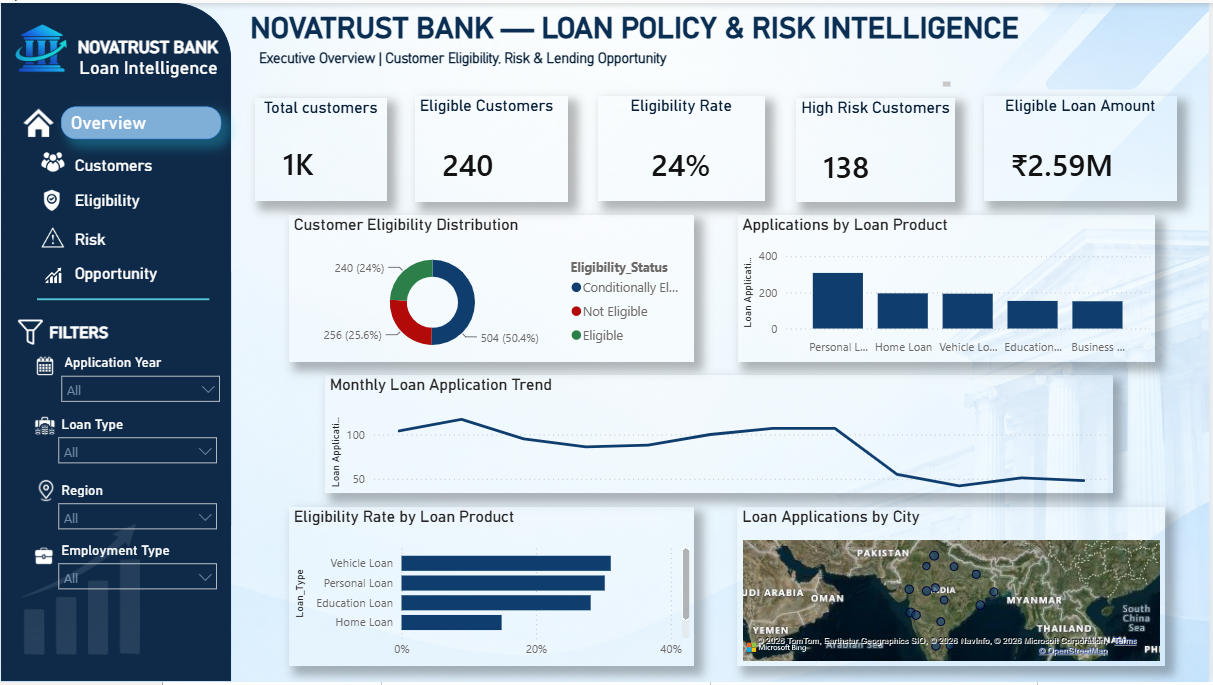

The dashboard page shown, as its layout file describes it:
{"tool":"powerbi","page":{"name":"Executive Overview","canvas":[1280,720],"ordinal":0},"visuals":[{"type":"textbox","title":" NOVATRUST BANK — LOAN POLICY & RISK INTELLIGENCE","box":[259.3,8,987.8,49.3],"z":0},{"type":"textbox","title":"Executive Overview | Customer Eligibility, Risk & Lending Opportunity","box":[268.8,49.3,742.8,44.5],"z":1000},{"type":"cardVisual","title":"Total customers","fields":{"Data":["Loan_Applications.Total Customers"]},"box":[268.8,100.2,140,109.8],"z":2000},{"type":"cardVisual","title":"Eligibility Rate","fields":{"Data":["Loan_Applications.Eligibility Rate"]},"box":[633.4,98.9,176.6,111.3],"z":3000},{"type":"cardVisual","title":"High Risk Customers","fields":{"Data":["Loan_Applications.High Risk Customers"]},"box":[842.3,100.5,168.6,111.3],"z":4000},{"type":"cardVisual","title":"Eligible Loan Amount","fields":{"Data":["Loan_Applications.Eligible Loan Amount"]},"box":[1041.9,98.6,205.2,111.3],"z":5000},{"type":"donutChart","title":"Customer Eligibility Distribution","fields":{"Category":["Loan_Applications.Eligibility_Status"],"Y":["Loan_Applications.Total Customers"]},"box":[305.4,224.3,429.5,155.9],"z":6000},{"type":"clusteredColumnChart","title":"Applications by Loan Product","fields":{"Category":["Loan_Applications.Loan_Type"],"Y":["Loan_Applications.Loan Applications"]},"box":[781.4,223.7,442.4,155.9],"z":7000},{"type":"lineChart","title":"Monthly Loan Application Trend","fields":{"Category":["Loan_Applications.Application_Date.Variation.Date Hierarchy.Month"],"Y":["Loan_Applications.Loan Applications"]},"box":[344.1,394.9,835.6,125.4],"z":8000},{"type":"clusteredBarChart","title":"Eligibility Rate by Loan Product","fields":{"Category":["Loan_Applications.Loan_Type"],"Y":["Loan_Applications.Eligibility Rate"]},"box":[305.4,534.4,429.5,168.6],"z":9000},{"type":"map","fields":{"Size":["Loan_Applications.Loan Applications"],"Category":["Loan_Applications.City"]},"box":[781,534.4,453.3,168.6],"z":10000},{"type":"shape","box":[0,0,244.2,719.2],"z":11000},{"type":"textbox","title":"NOVATRUST BANK","box":[73.2,36.6,165.4,20.7],"z":12000},{"type":"textbox","title":"Loan Intelligence","box":[60.4,57.3,192,42.1],"z":13000},{"type":"textbox","title":"Overview","box":[63.8,110.1,170.2,35],"z":14000},{"type":"textbox","title":"Customers","box":[73.2,162.2,179.7,19.1],"z":15000},{"type":"textbox","title":"Eligibility","box":[73.2,198.8,151.1,25.4],"z":16000},{"type":"textbox","title":"Risk","box":[73.2,240.2,179.7,25.4],"z":17000},{"type":"textbox","title":"Opportunity","box":[73.2,276.8,147.9,25.4],"z":18000},{"type":"shape","box":[38.3,279.2,182.9,68.4],"z":19000},{"type":"textbox","title":"FILTERS","box":[46.1,338.8,187.7,28.6],"z":20000},{"type":"slicer","title":"Application Year","fields":{"Values":["Loan_Applications.Application_Date"]},"box":[54.1,367.4,187.7,65.2],"z":21000},{"type":"slicer","fields":{"Values":["Loan_Applications.Loan_Type"]},"box":[50.9,432.6,187.7,70],"z":22000},{"type":"slicer","fields":{"Values":["Loan_Applications.Region"]},"box":[50.9,502.6,187.7,62],"z":23000},{"type":"slicer","fields":{"Values":["Loan_Applications.Employment_Type"]},"box":[50.9,566.3,187.7,68.4],"z":24000},{"type":"image","box":[9.5,20.7,63.6,55.7],"z":25000},{"type":"image","box":[41.4,155.9,27,25.4],"z":26000},{"type":"image","box":[31.9,196.2,44.5,28.6],"z":27000},{"type":"image","box":[42.9,235.4,23.9,27],"z":28000},{"type":"image","box":[33.4,275.2,44.5,27],"z":29000},{"type":"image","box":[23.9,109.8,31.8,35],"z":30000},{"type":"image","box":[16.7,335,30,26.7],"z":31000},{"type":"image","box":[23.3,433.3,45,35],"z":32000},{"type":"image","box":[35,373.3,23.3,21.7],"z":33000},{"type":"image","box":[31.7,503.3,31.7,28.3],"z":34000},{"type":"image","box":[11.7,553.3,68.4,65.2],"z":35000},{"type":"image","box":[0,518.5,162.7,201],"z":36000},{"type":"cardVisual","title":"Eligible Customers","fields":{"Data":["Loan_Applications.Eligible Customers"]},"box":[438.7,98.9,162.7,111.7],"z":37000},{"type":"actionButton","box":[67.3,147,163,40.7],"z":38000},{"type":"actionButton","box":[67.3,187.8,147,40.7],"z":39000},{"type":"actionButton","box":[67.3,228.5,100,40],"z":40000},{"type":"actionButton","box":[69.1,267.5,145.2,40.7],"z":41000}]}

Visuals, with their boxes in screenshot pixels (x1, y1, x2, y2), scaled from the page's 1280x720 canvas onto the 1213x685 screenshot:
" NOVATRUST BANK — LOAN POLICY & RISK INTELLIGENCE" textbox: 246/8/1182/55
"Executive Overview | Customer Eligibility, Risk & Lending Opportunity" textbox: 255/47/959/89
"Total customers" cardVisual: 255/95/387/200
"Eligibility Rate" cardVisual: 600/94/768/200
"High Risk Customers" cardVisual: 798/96/958/202
"Eligible Loan Amount" cardVisual: 987/94/1182/200
"Customer Eligibility Distribution" donutChart: 289/213/696/362
"Applications by Loan Product" clusteredColumnChart: 740/213/1160/361
"Monthly Loan Application Trend" lineChart: 326/376/1118/495
"Eligibility Rate by Loan Product" clusteredBarChart: 289/508/696/669
map - Loan_Applications.Loan Applications x Loan_Applications.City: 740/508/1170/669
shape: 0/0/231/684
"NOVATRUST BANK" textbox: 69/35/226/55
"Loan Intelligence" textbox: 57/55/239/95
"Overview" textbox: 60/105/222/138
"Customers" textbox: 69/154/240/172
"Eligibility" textbox: 69/189/213/213
"Risk" textbox: 69/229/240/253
"Opportunity" textbox: 69/263/210/288
shape: 36/266/210/331
"FILTERS" textbox: 44/322/222/350
"Application Year" slicer: 51/350/229/412
slicer - Loan_Applications.Loan_Type: 48/412/226/478
slicer - Loan_Applications.Region: 48/478/226/537
slicer - Loan_Applications.Employment_Type: 48/539/226/604
image: 9/20/69/73
image: 39/148/65/172
image: 30/187/72/214
image: 41/224/63/250
image: 32/262/74/288
image: 23/104/53/138
image: 16/319/44/344
image: 22/412/65/446
image: 33/355/55/376
image: 30/479/60/506
image: 11/526/76/588
image: 0/493/154/684
"Eligible Customers" cardVisual: 416/94/570/200
actionButton: 64/140/218/179
actionButton: 64/179/203/217
actionButton: 64/217/159/255
actionButton: 65/254/203/293
